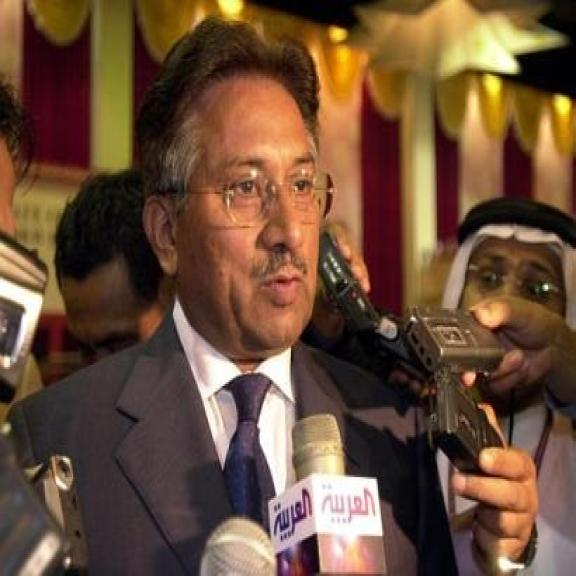face: (144, 86, 324, 355)
